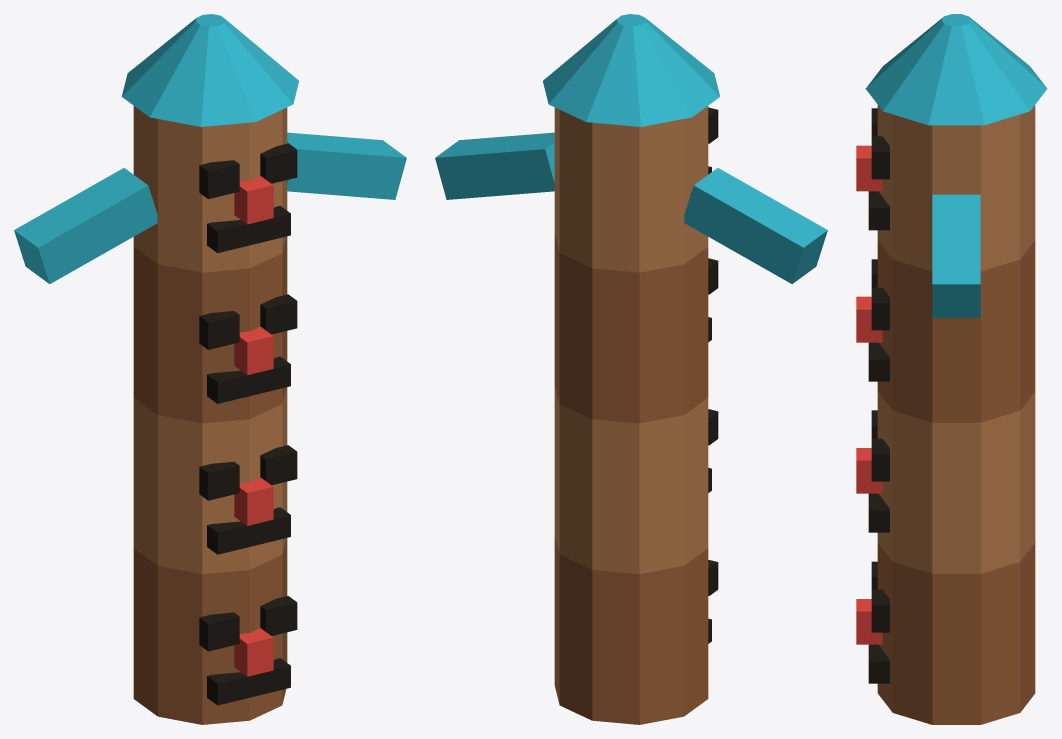
The model's file is Prop_Totem.fbx.
3 views of the same model, side by side, from view 1: azimuth 30°, elevation 25°; view 2: azimuth 150°, elevation 25°; view 3: azimuth 270°, elevation 25° (orthographic).
Visible parts, largest first — view 1: Prop_Totem.001; view 2: Prop_Totem.001; view 3: Prop_Totem.001.
Part boxes in pixels (x1,y1,x2,y2): Prop_Totem.001: [14, 14, 406, 724]; Prop_Totem.001: [435, 14, 827, 724]; Prop_Totem.001: [856, 14, 1047, 724].
Size of the model in its own units: 1.41 by 2.45 by 0.63.
